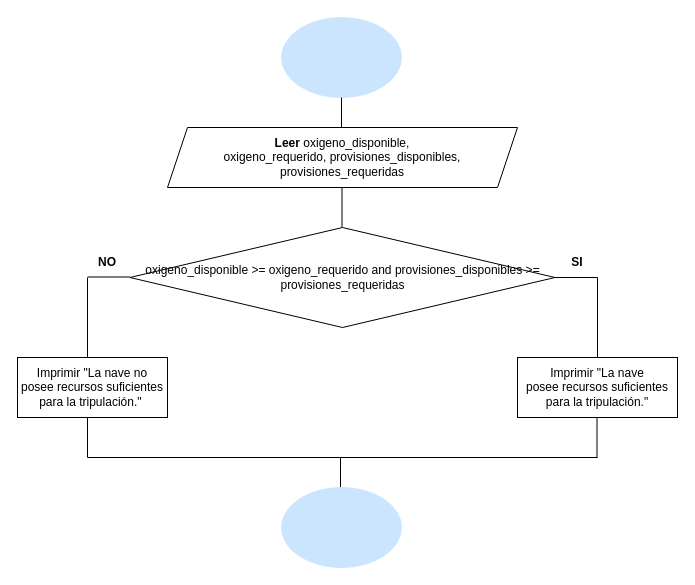
Image size: 695x585. Some labels were removed from this diagram. Each missing label, with the centre of its shape:
"Fin" goes at (341,527).
"Inicio" goes at (341,57).
